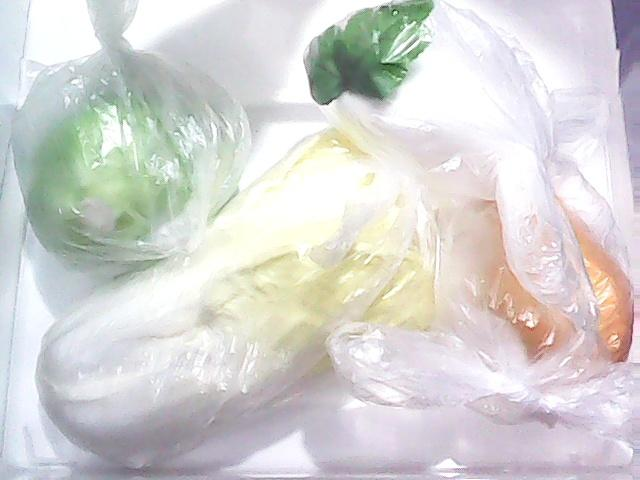cabbage: (22, 44, 254, 272)
mango: (442, 157, 636, 394)
napa cabbage: (39, 111, 434, 469)
radish: (301, 0, 581, 198)
